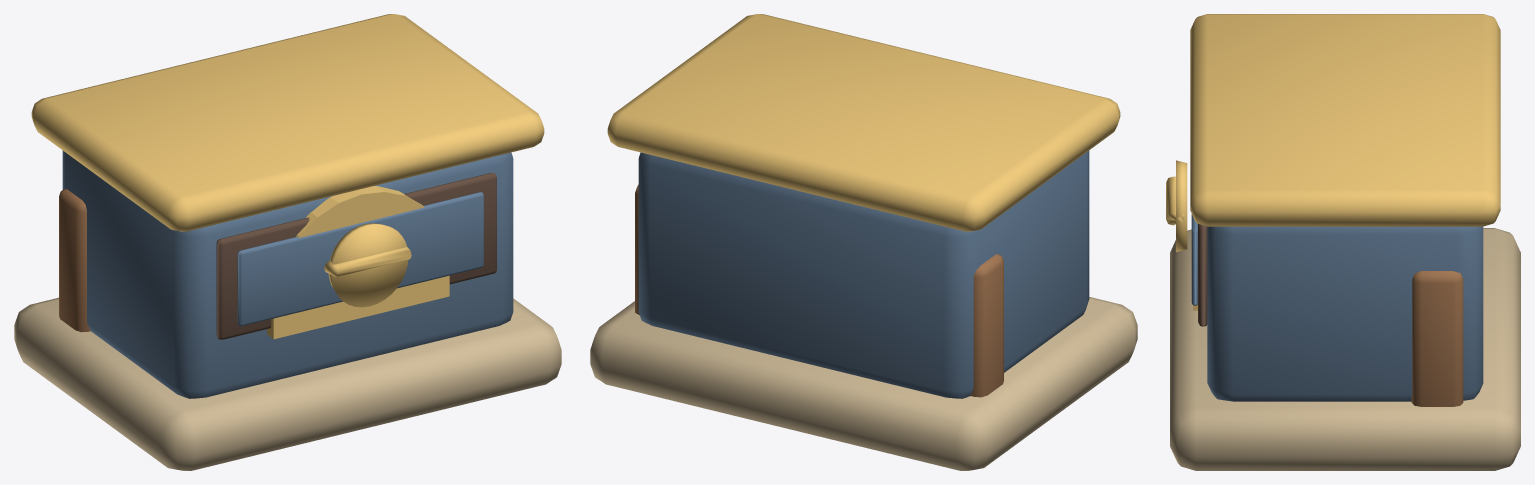
File: treasury.glb
3 renders of one model, left to right at view 1: azimuth 30°, elevation 25°; view 2: azimuth 150°, elevation 25°; view 3: azimuth 270°, elevation 25°, orthographic. The views are drawn at different scales.
Parts seen in each view (by area): view 1: treasury_crafted_mesh; view 2: treasury_crafted_mesh; view 3: treasury_crafted_mesh.
Part boxes in pixels (bbox=[...]): treasury_crafted_mesh: bbox=[14, 14, 561, 470]; treasury_crafted_mesh: bbox=[590, 14, 1137, 470]; treasury_crafted_mesh: bbox=[1166, 14, 1520, 470].
Bounding box in the file's own units: 1.65 × 1.07 × 1.23.
